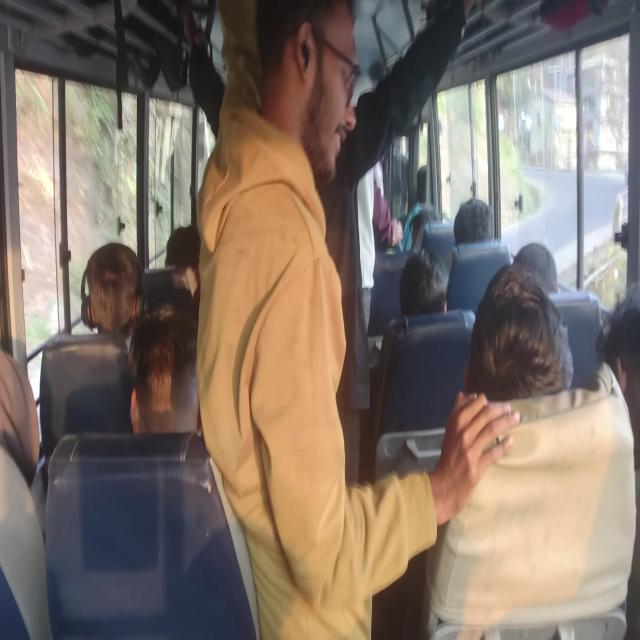person: (478, 271, 597, 459), (251, 0, 380, 165), (138, 309, 238, 480), (86, 241, 198, 364), (0, 364, 54, 507), (604, 320, 640, 477), (507, 227, 587, 296), (392, 263, 454, 345), (432, 191, 497, 256), (158, 224, 214, 289), (416, 170, 460, 228), (408, 219, 432, 253)
